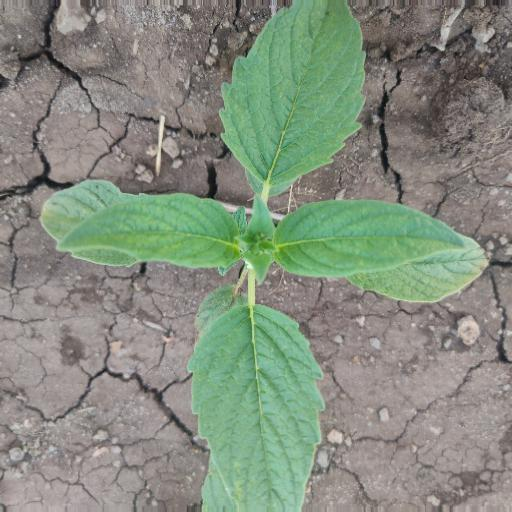crop: (24, 1, 494, 508)
